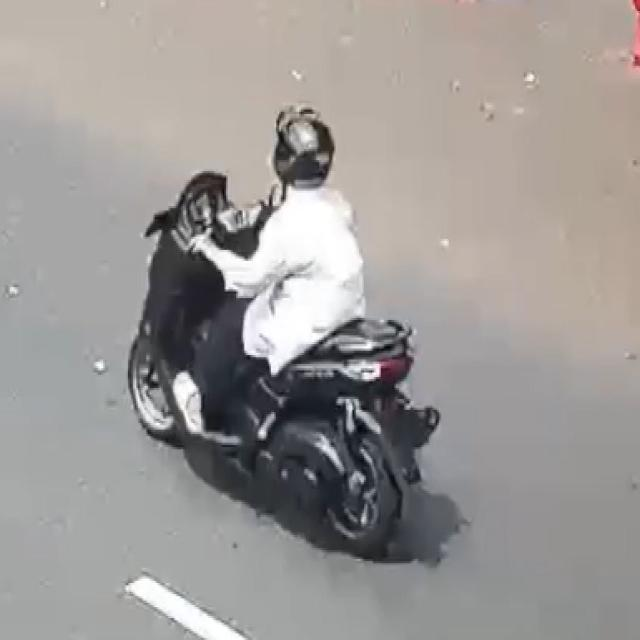helm: (266, 100, 345, 197)
motor: (99, 81, 468, 597)
spion: (182, 210, 219, 237)
